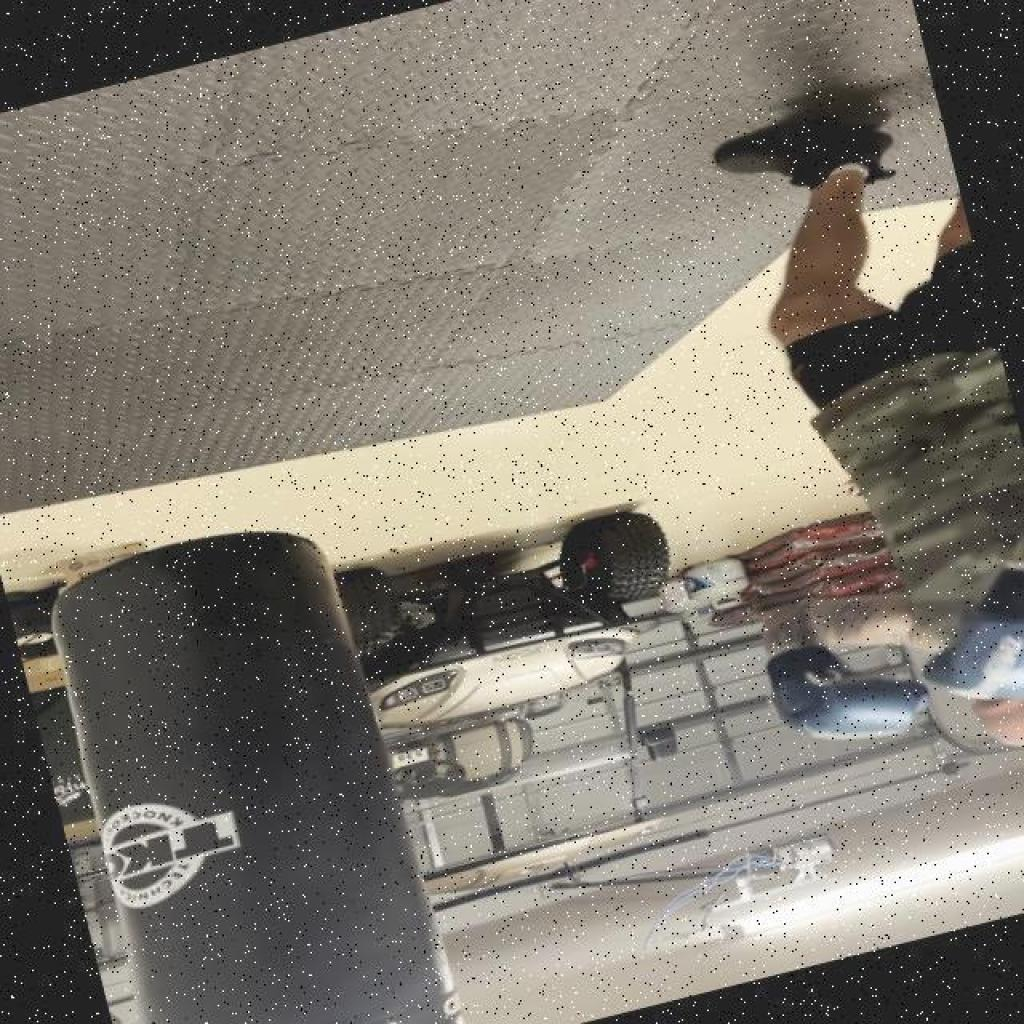no punch: (590, 91, 1024, 834)
